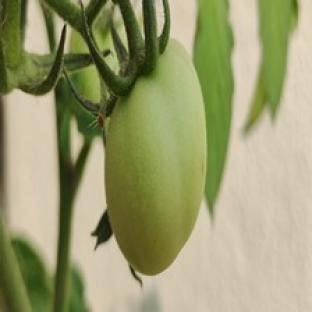Tomato: (105, 41, 206, 274)
